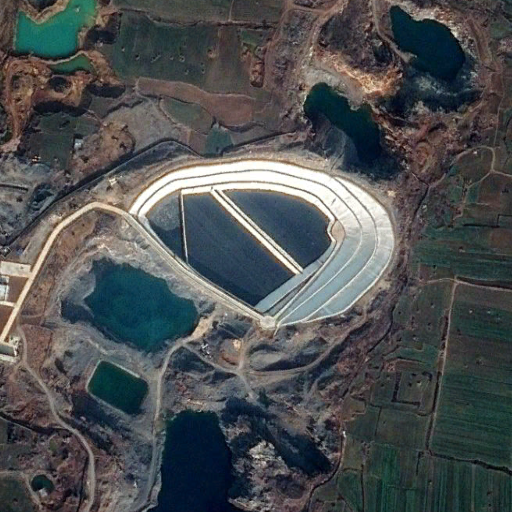lf: (130, 161, 396, 330)
